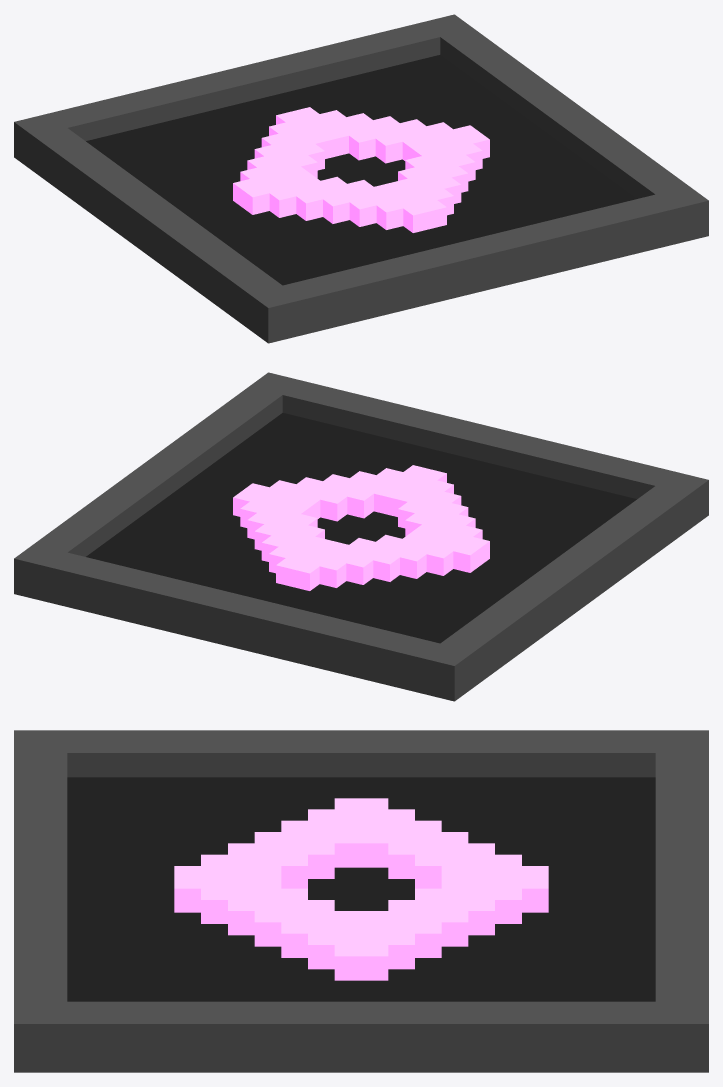
Rendered from trap_DIAMOND_VIOLET.glb.
The picture shows the model from 3 angles, top to bottom: view 1: azimuth 30°, elevation 25°; view 2: azimuth 150°, elevation 25°; view 3: azimuth 270°, elevation 25°; orthographic projection. The views are drawn at different scales.
Parts seen in each view (by area): view 1: item_TRAP_DIAMOND_VIOLET; view 2: item_TRAP_DIAMOND_VIOLET; view 3: item_TRAP_DIAMOND_VIOLET.
Part boxes in pixels (box(x1,y1,x2,y2)): item_TRAP_DIAMOND_VIOLET: box(14, 14, 708, 343); item_TRAP_DIAMOND_VIOLET: box(14, 372, 708, 701); item_TRAP_DIAMOND_VIOLET: box(14, 730, 708, 1072).
Size of the model in its own units: 0.5909 by 0.0455 by 0.5909.
1 material, 1 textured.
